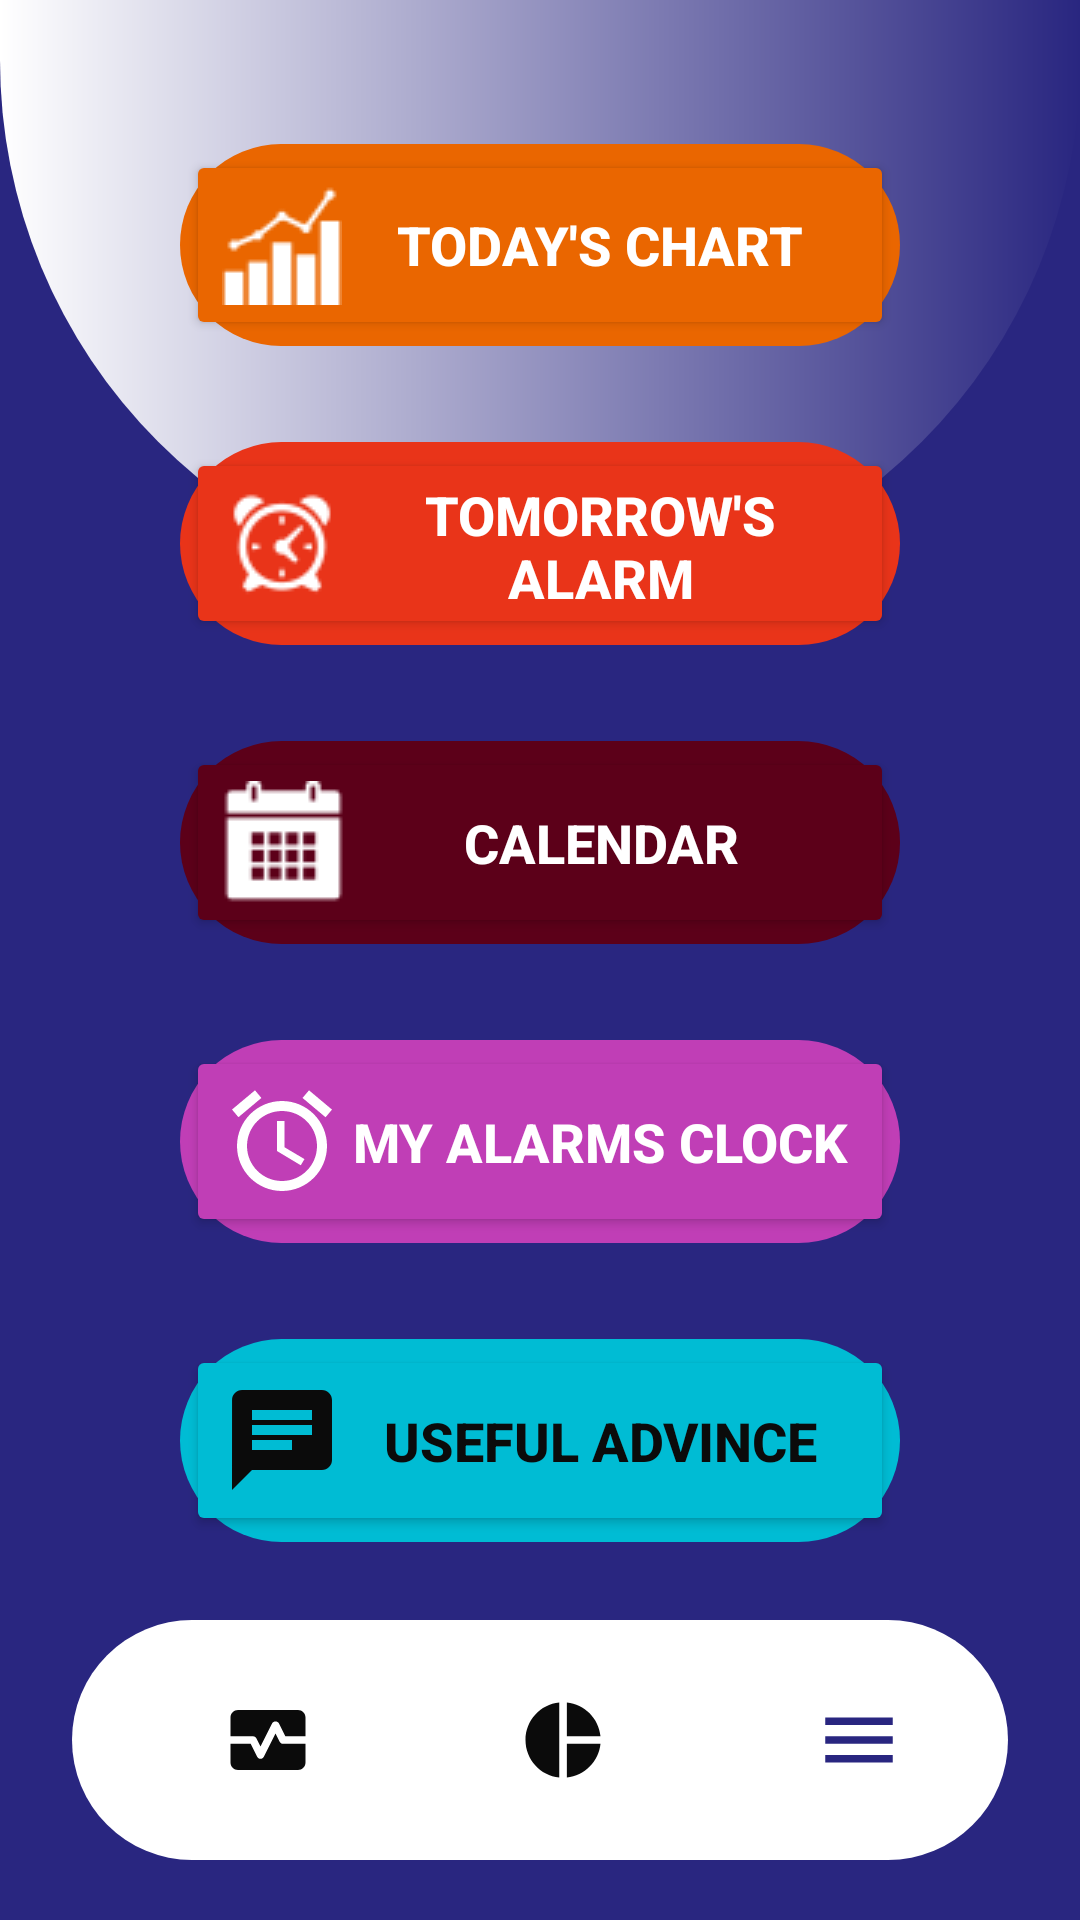

Screen size 1080 x 1920. Icon name, then its box in pixels as [x1=x1, y1=y1, x2=x2, y2=y2]:
Menu: [x1=825, y1=1717, x2=893, y2=1763]
Today's values: [x1=230, y1=1710, x2=306, y2=1770]
